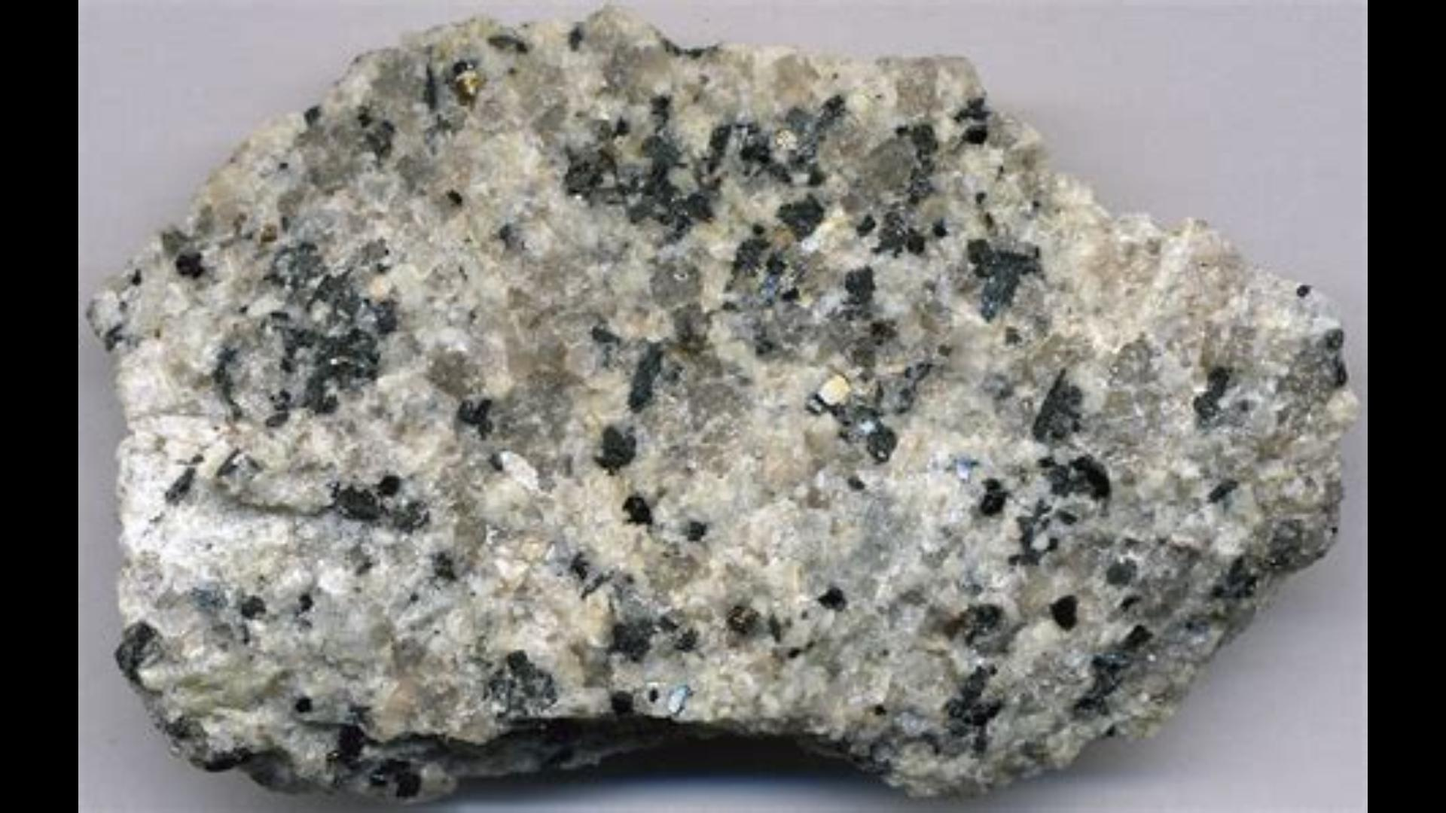rock: (92, 11, 1349, 797)
